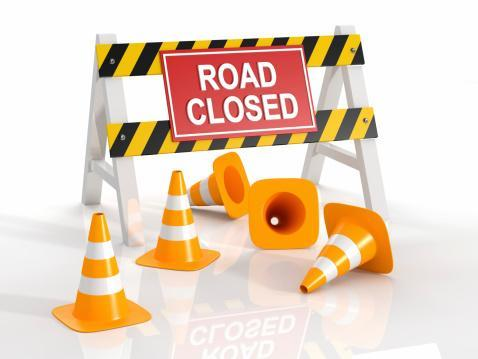Cone: (50, 212, 153, 331), (137, 171, 221, 273), (301, 202, 392, 292), (176, 151, 254, 224), (246, 178, 320, 249)
